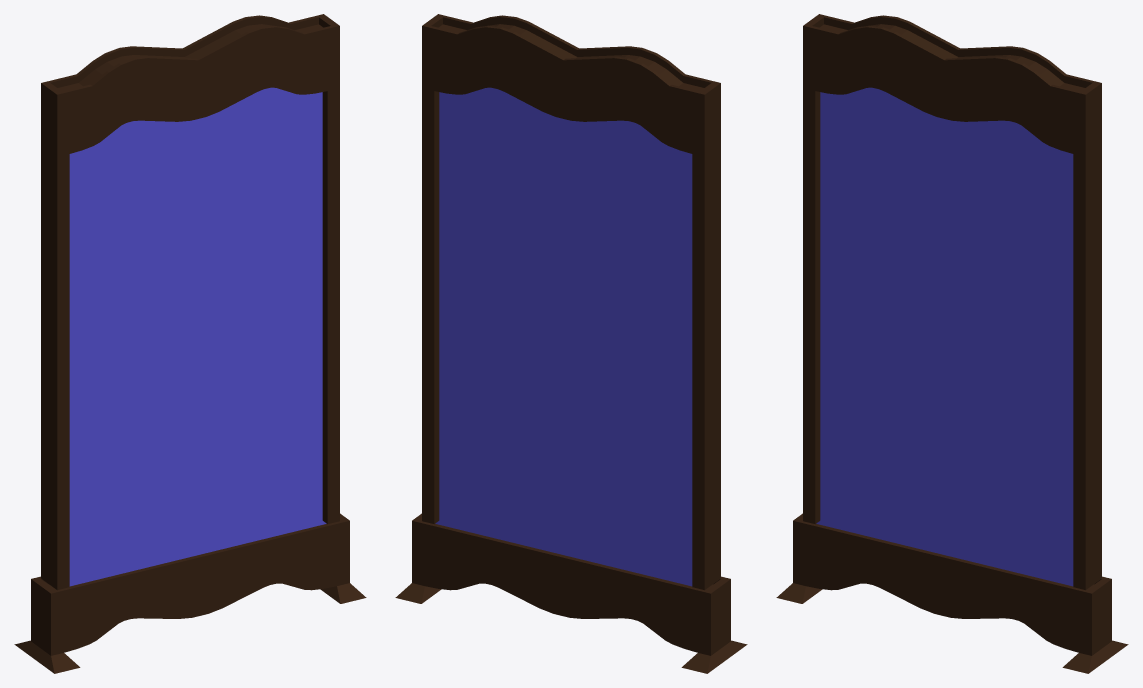
Rendered from immovable_standing_mirror.fbx.
The picture shows the model from 3 angles, left to right: view 1: azimuth 30°, elevation 25°; view 2: azimuth 150°, elevation 25°; view 3: azimuth 330°, elevation 25°; orthographic projection.
Visible parts, largest first — view 1: mirror, top, base; view 2: mirror, top, base; view 3: mirror, top, base.
Part boxes in pixels (<box>): mirror: <box>69,87,326,586</box>; top: <box>41,14,339,590</box>; base: <box>14,513,366,673</box>; mirror: <box>435,87,692,586</box>; top: <box>422,14,720,590</box>; base: <box>395,513,747,673</box>; mirror: <box>816,87,1073,586</box>; top: <box>803,14,1101,590</box>; base: <box>776,513,1128,673</box>.
Size of the model in its own units: 1182 by 2110 by 264.
